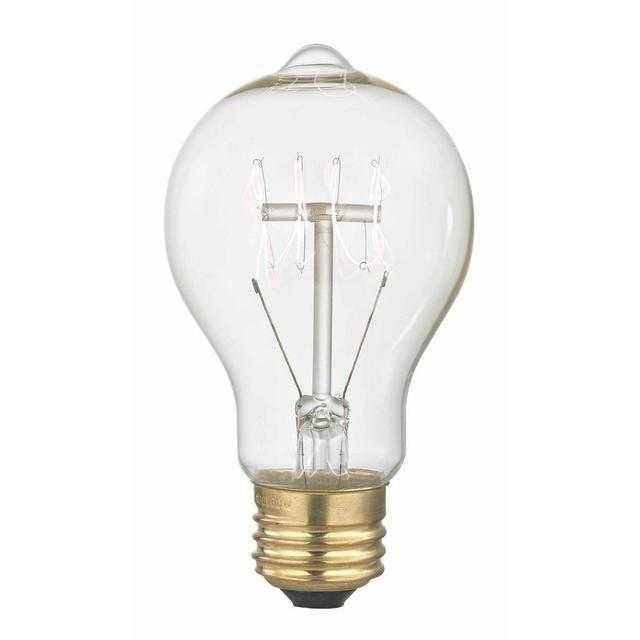light_bulb: (160, 41, 476, 610)
